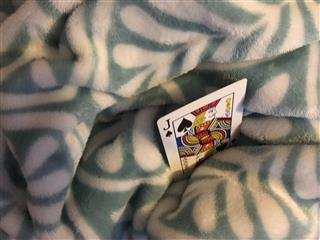JackOfSpades: (155, 77, 247, 182)
